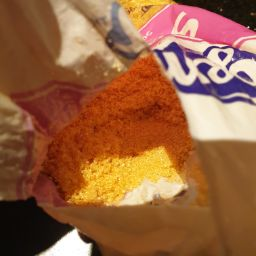Brown Sugar: (22, 55, 208, 224), (55, 140, 177, 173), (76, 124, 129, 194), (93, 101, 173, 137)
